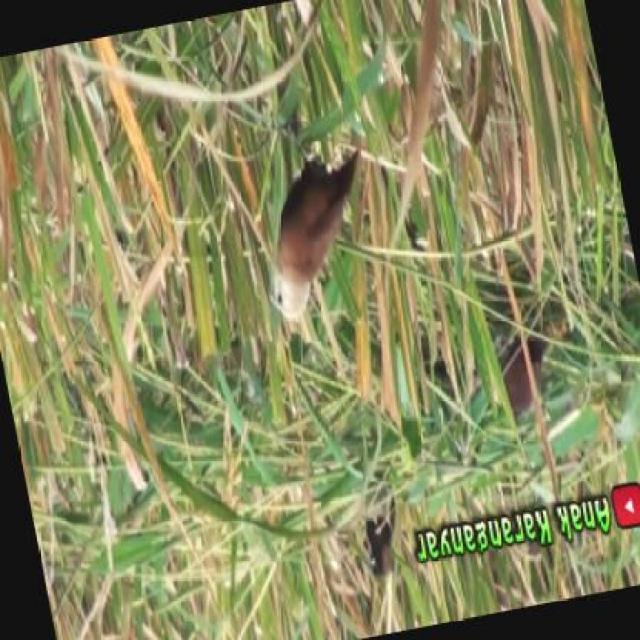Bird: (249, 139, 357, 330), (489, 332, 546, 435), (357, 516, 396, 584)
